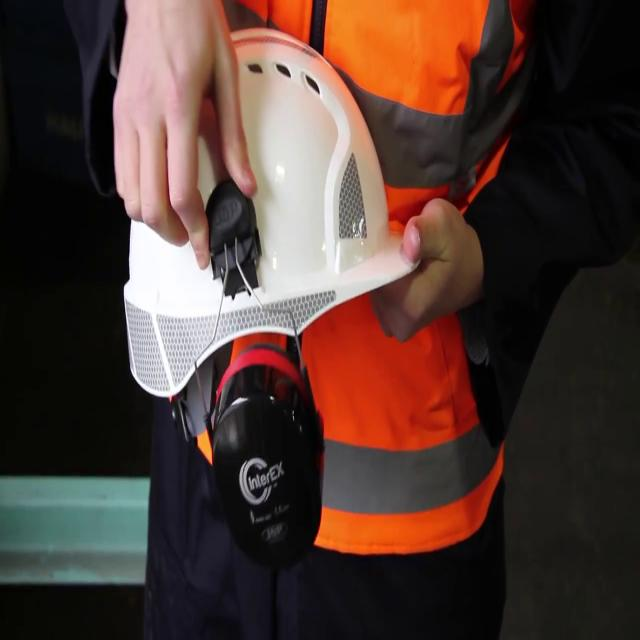earmuff: (207, 341, 329, 578)
helmet: (117, 22, 426, 408)
